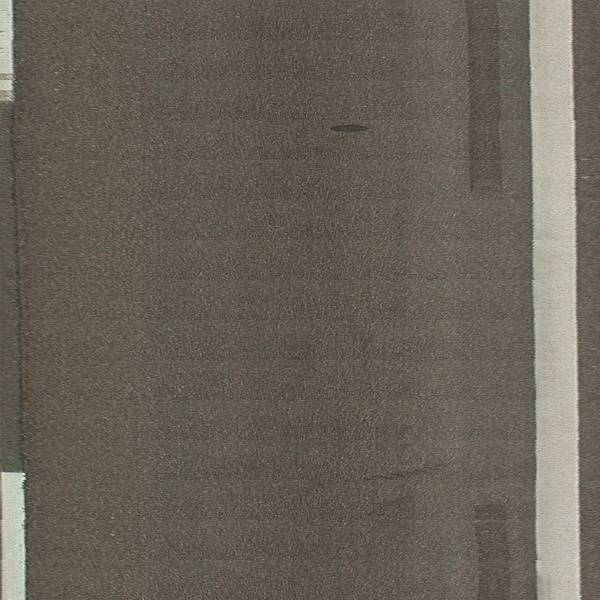road_damage: (324, 118, 376, 135)
